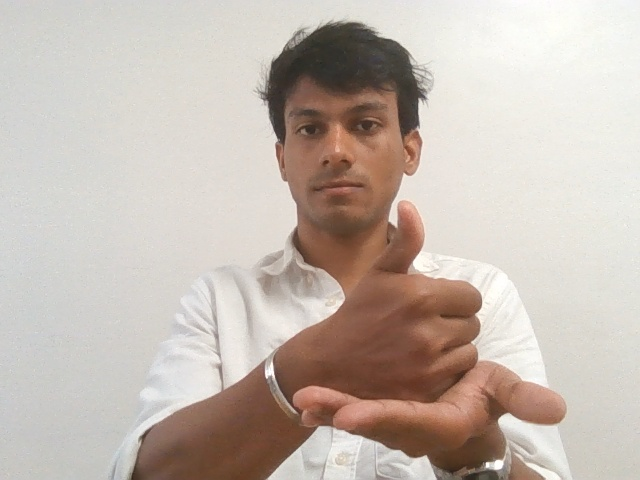Help: (289, 201, 570, 454)
